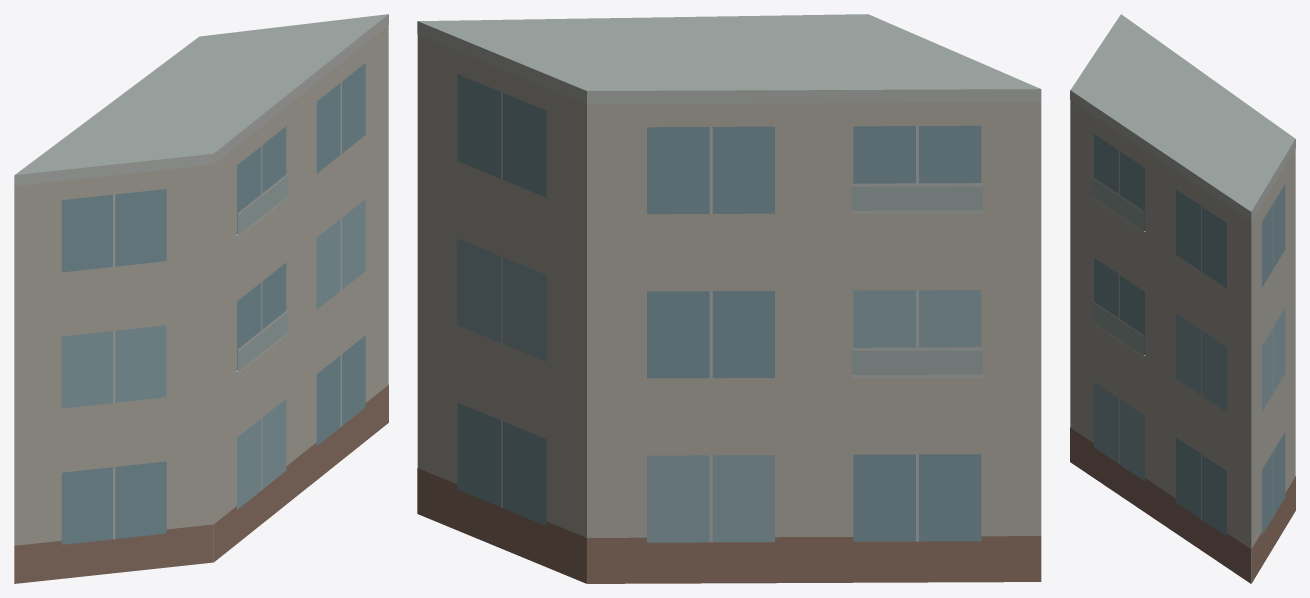
File: survey-upis-32497882.glb
The picture shows the model from 3 angles, left to right: view 1: azimuth 30°, elevation 25°; view 2: azimuth 150°, elevation 25°; view 3: azimuth 270°, elevation 25°; orthographic projection. The views are drawn at different scales.
Parts seen in each view (by area): view 1: survey-upis-32497882.tmp; view 2: survey-upis-32497882.tmp; view 3: survey-upis-32497882.tmp.
Part boxes in pixels (x1,y1,x2,y2): survey-upis-32497882.tmp: (14, 14, 388, 583); survey-upis-32497882.tmp: (417, 14, 1041, 583); survey-upis-32497882.tmp: (1070, 14, 1295, 583).
Size of the model in its own units: 10.45 by 9.15 by 5.03.
